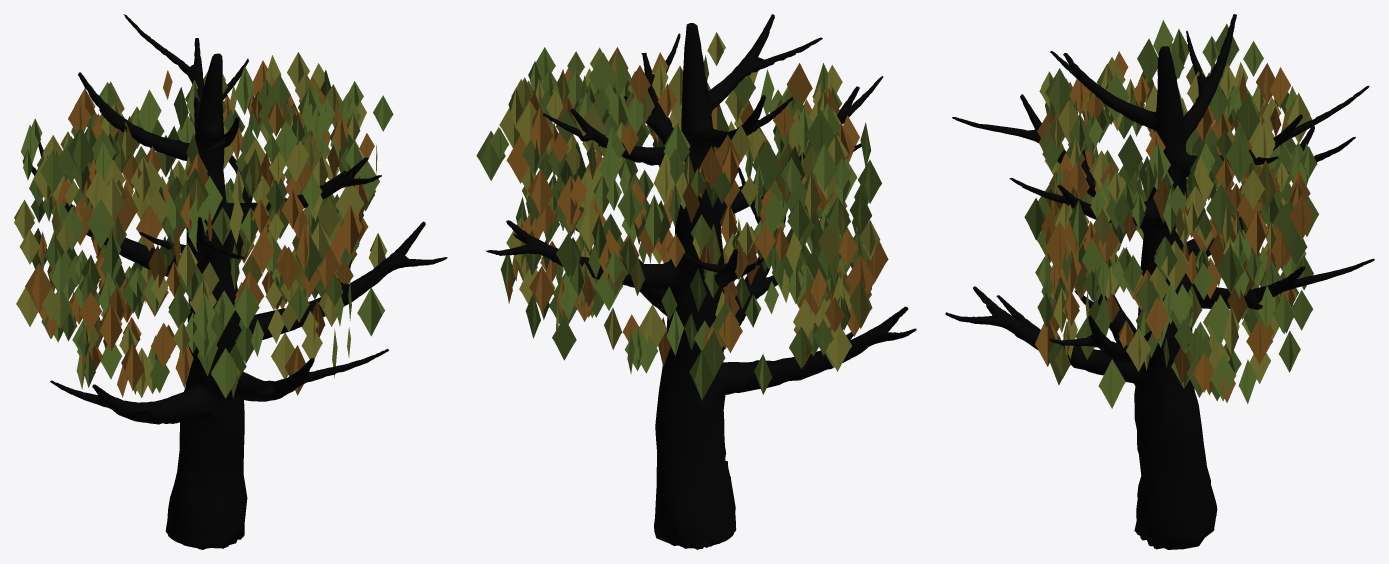
The model's file is BeyondTree_LOD0_v005.glb.
3 views of the same model, side by side, from view 1: azimuth 30°, elevation 25°; view 2: azimuth 150°, elevation 25°; view 3: azimuth 270°, elevation 25° (orthographic). The views are drawn at different scales.
Parts seen in each view (by area): view 1: Leaves, Bark_Growth_LOD0; view 2: Leaves, Bark_Growth_LOD0; view 3: Leaves, Bark_Growth_LOD0.
Part boxes in pixels (x1=…): Leaves: x1=14, y1=52, x2=393, y2=398; Bark_Growth_LOD0: x1=31, y1=14, x2=447, y2=549; Leaves: x1=476, y1=32, x2=888, y2=400; Bark_Growth_LOD0: x1=486, y1=14, x2=916, y2=549; Leaves: x1=1024, y1=20, x2=1318, y2=408; Bark_Growth_LOD0: x1=945, y1=14, x2=1374, y2=549.
Bounding box in the file's own units: 7.04 × 8.91 × 7.06.
2 materials, 2 textured.
